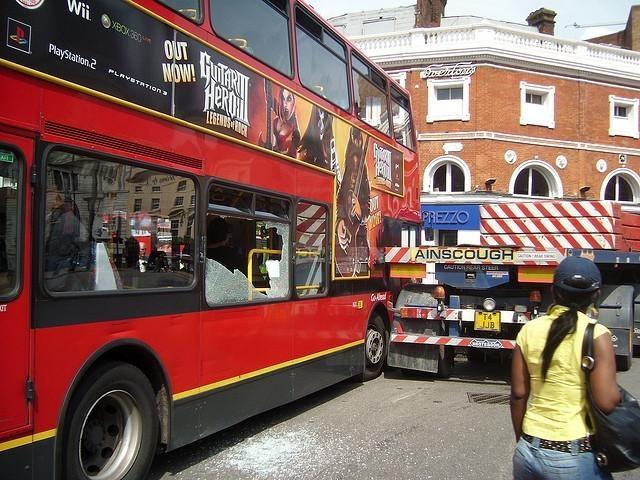bus: (0, 0, 426, 471)
truck: (381, 198, 640, 376)
